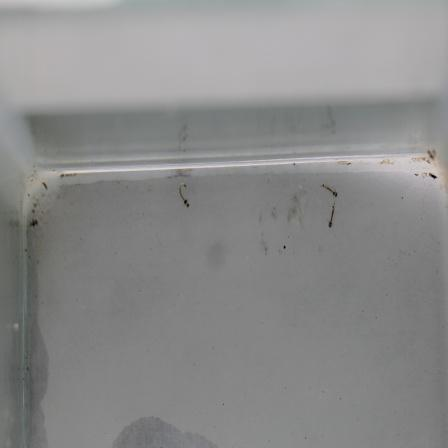Jentik-Nyamuk: (314, 179, 340, 232), (173, 179, 197, 213)
